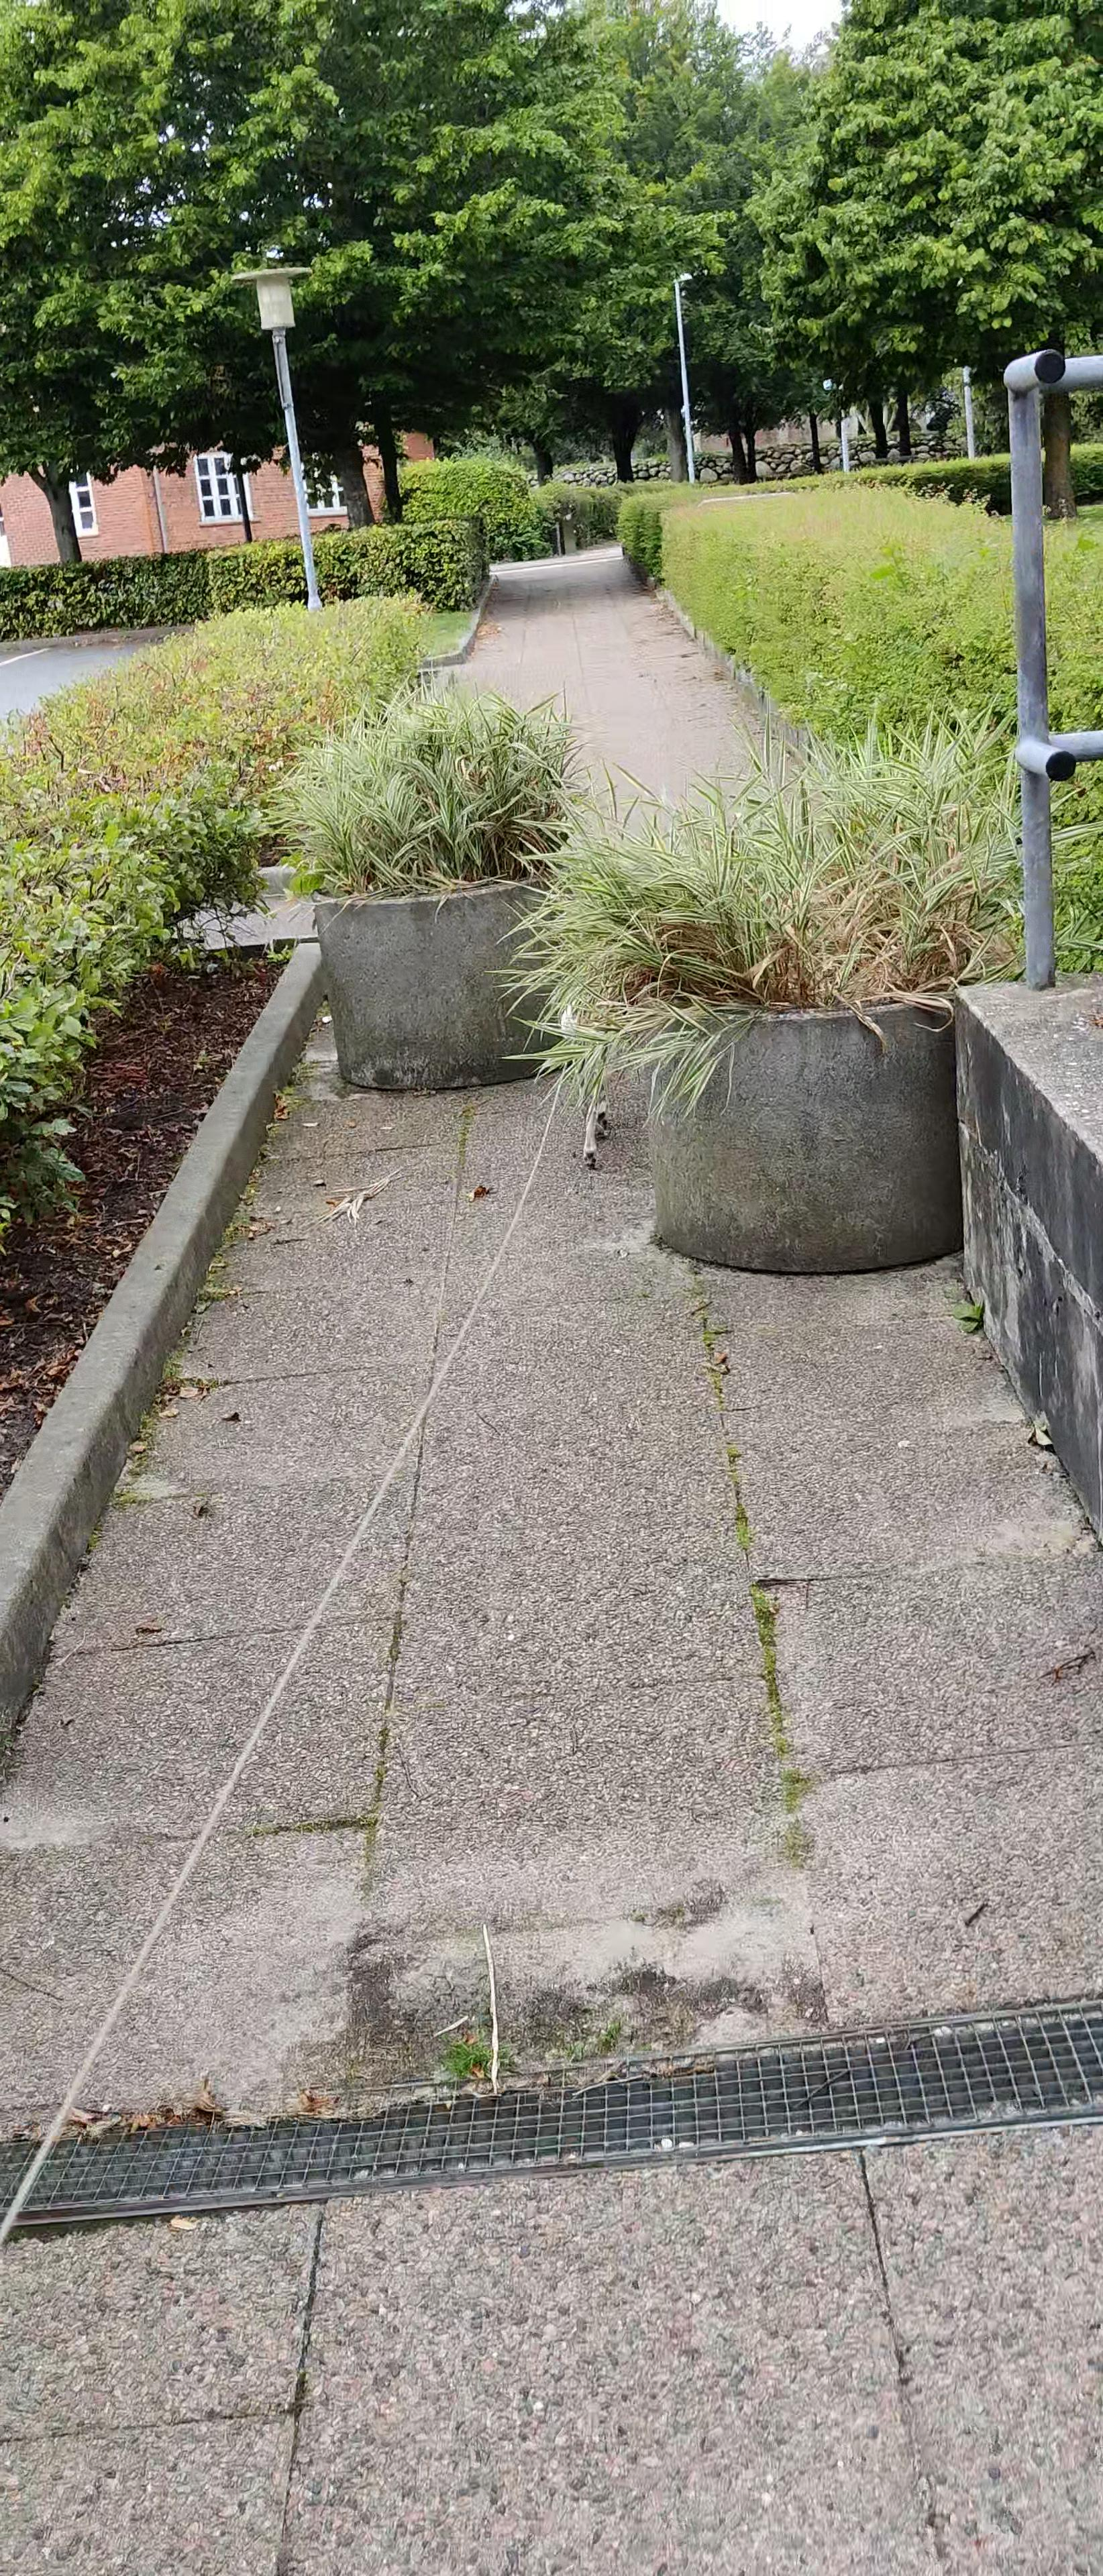Dog: (556, 996, 630, 1170)
